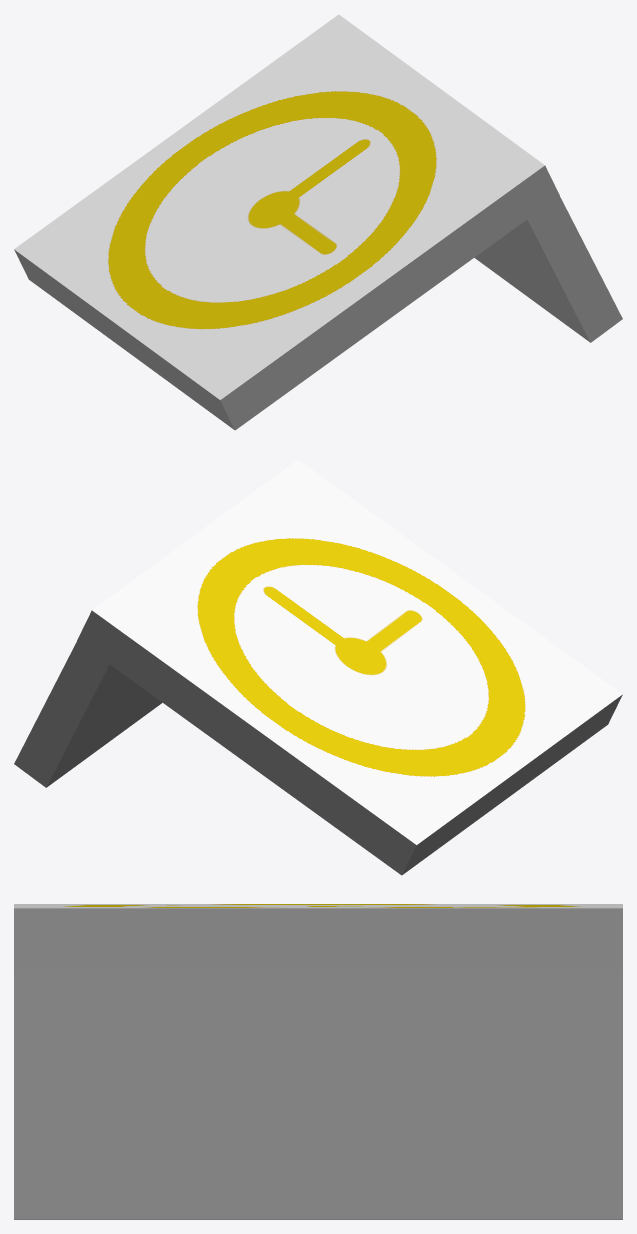
Rendered from checkpoint.fbx.
3 views of the same model, one above another, from view 1: azimuth 30°, elevation 25°; view 2: azimuth 150°, elevation 25°; view 3: azimuth 270°, elevation 25° (orthographic). The views are drawn at different scales.
Parts seen in each view (by area): view 1: sign_back; view 2: sign_back; view 3: sign_back.
Boxes of the visible parts, box(x1,y1,x2,y2) form: sign_back: box(14, 14, 622, 430); sign_back: box(14, 459, 622, 875); sign_back: box(14, 904, 622, 1219).
Bounding box in the file's own units: 225 × 101 × 200.
